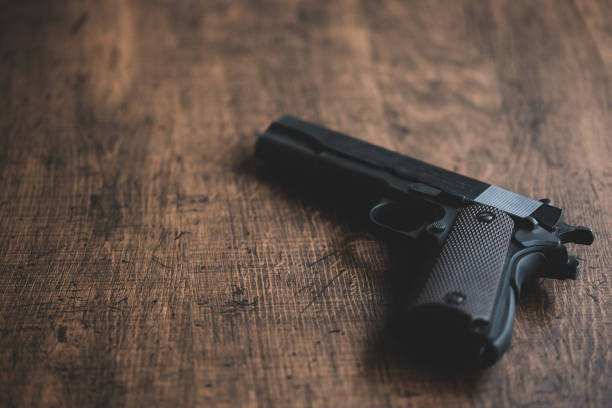gun: (253, 113, 595, 367)
